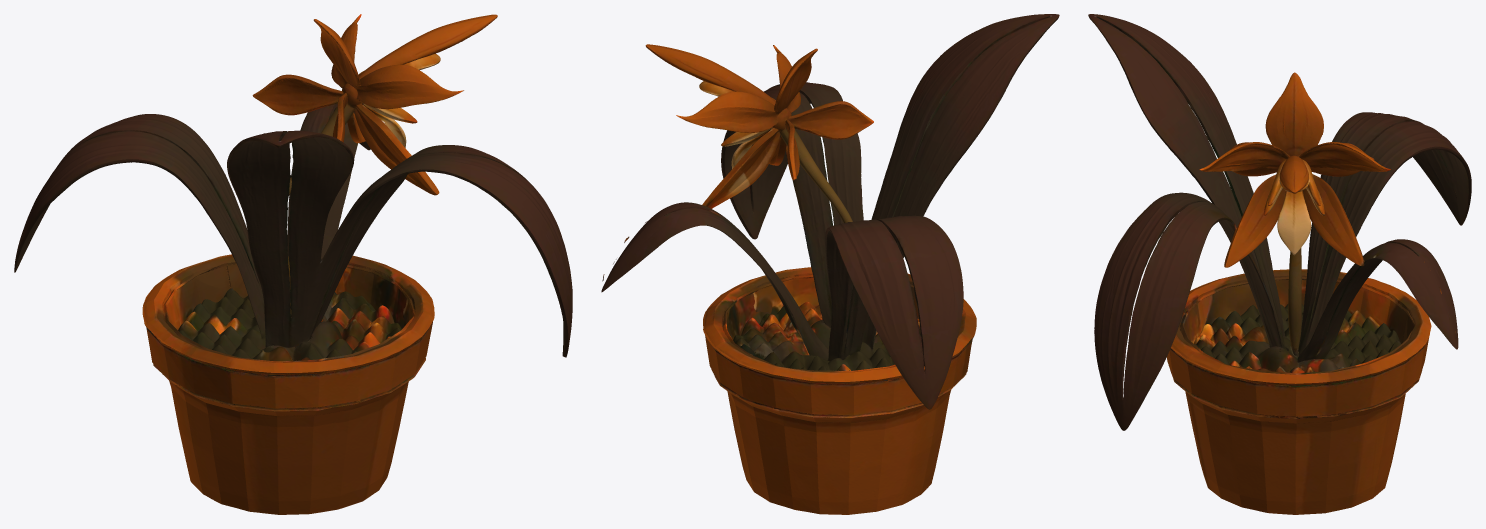
The picture shows the model from 3 angles, left to right: view 1: azimuth 30°, elevation 25°; view 2: azimuth 150°, elevation 25°; view 3: azimuth 270°, elevation 25°; orthographic projection. The views are drawn at different scales.
Parts seen in each view (by area): view 1: tripo_node_b3fb6f0d-1956-4bf4-9d05-2c3e230ddf83; view 2: tripo_node_b3fb6f0d-1956-4bf4-9d05-2c3e230ddf83; view 3: tripo_node_b3fb6f0d-1956-4bf4-9d05-2c3e230ddf83.
Boxes of the visible parts, box(x1,y1,x2,y2) form: tripo_node_b3fb6f0d-1956-4bf4-9d05-2c3e230ddf83: box(14, 14, 572, 514); tripo_node_b3fb6f0d-1956-4bf4-9d05-2c3e230ddf83: box(601, 14, 1059, 514); tripo_node_b3fb6f0d-1956-4bf4-9d05-2c3e230ddf83: box(1088, 14, 1471, 514).
Bounding box in the file's own units: 0.931 × 1 × 0.8332.
1 material, 1 textured.
